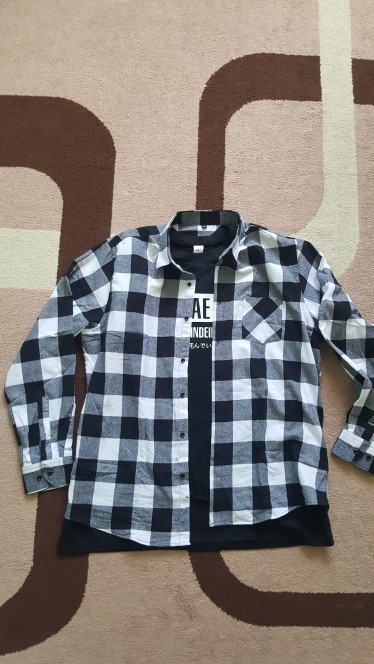shirts: (40, 215, 374, 531)
